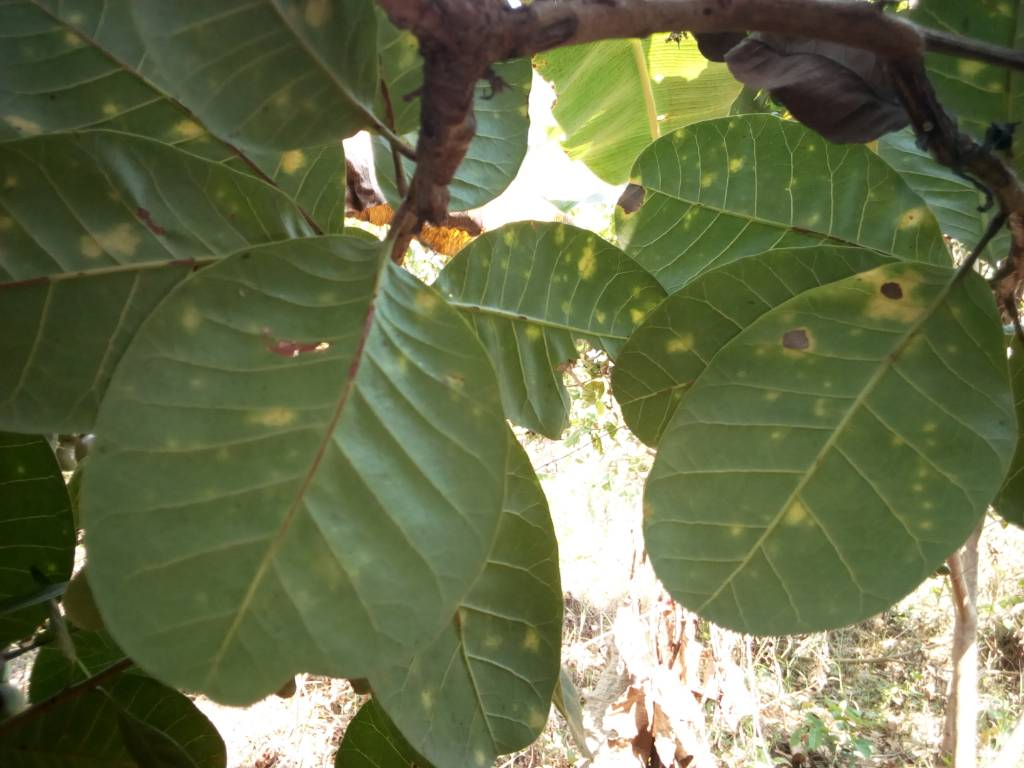Alternariose: (93, 236, 514, 679), (654, 261, 1003, 632), (593, 114, 947, 268), (432, 220, 658, 423)
